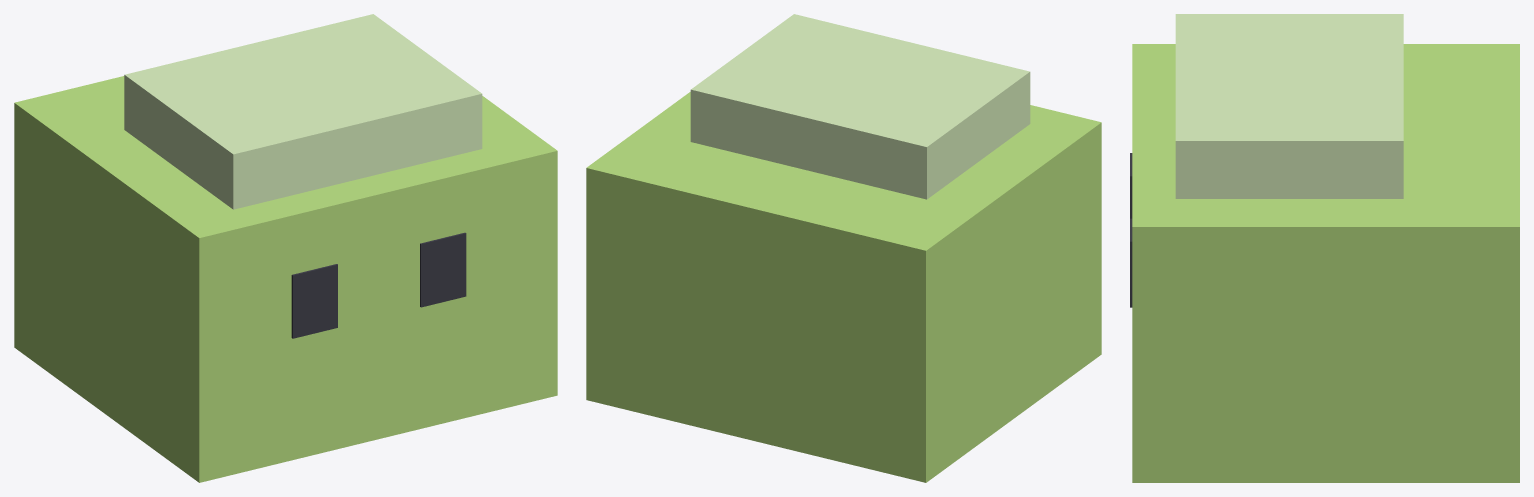
File: act3-slime-mint.gltf
3 renders of one model, left to right at view 1: azimuth 30°, elevation 25°; view 2: azimuth 150°, elevation 25°; view 3: azimuth 270°, elevation 25°, orthographic. The views are drawn at different scales.
Visible parts, largest first — view 1: blob, dome, eyeL, eyeR; view 2: blob, dome; view 3: blob, dome.
Boxes of the visible parts, left/top/right/bottom form: blob: left=14, top=76, right=557, bottom=482; dome: left=124, top=14, right=482, bottom=209; eyeL: left=291, top=264, right=337, bottom=338; eyeR: left=420, top=232, right=466, bottom=307; blob: left=586, top=92, right=1101, bottom=482; dome: left=690, top=14, right=1030, bottom=199; blob: left=1132, top=44, right=1519, bottom=482; dome: left=1175, top=14, right=1403, bottom=198.
Size of the model in its own units: 0.95 by 0.76 by 0.855.
